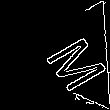M_NE: (34, 24, 109, 90)
